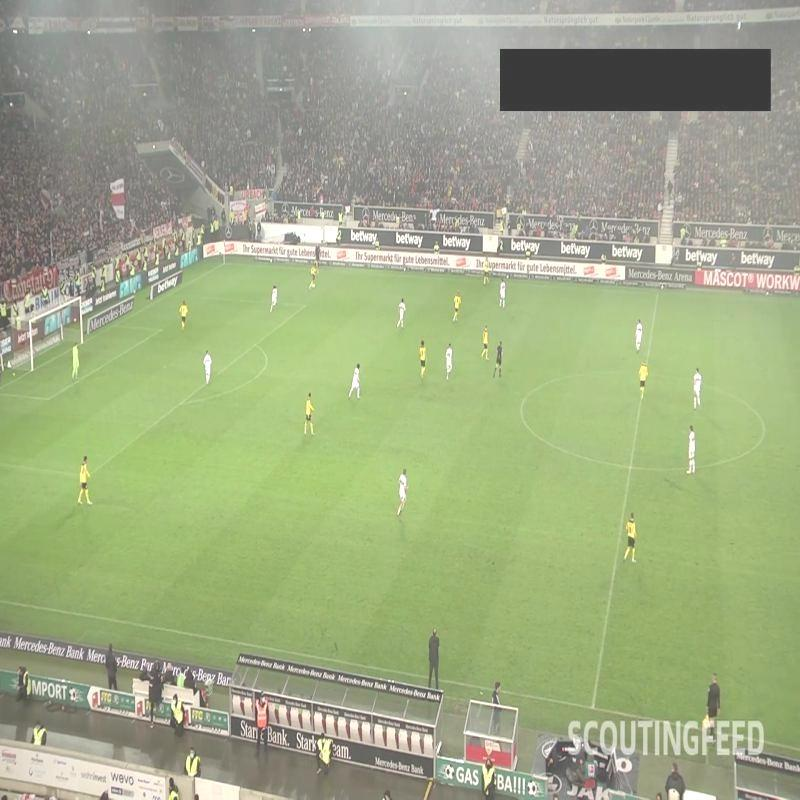1: (218, 255, 232, 269)
10: (249, 336, 263, 350)
11: (174, 394, 188, 408)
12: (74, 466, 94, 488)
13: (651, 283, 665, 297)
14: (636, 364, 656, 381)
15: (624, 460, 638, 474)
16: (584, 697, 603, 718)
2: (160, 288, 178, 302)
3: (106, 318, 120, 332)
7: (154, 322, 168, 336)
8: (41, 391, 55, 405)
9: (298, 298, 312, 312)
c: (512, 392, 532, 415), (757, 425, 772, 439)
